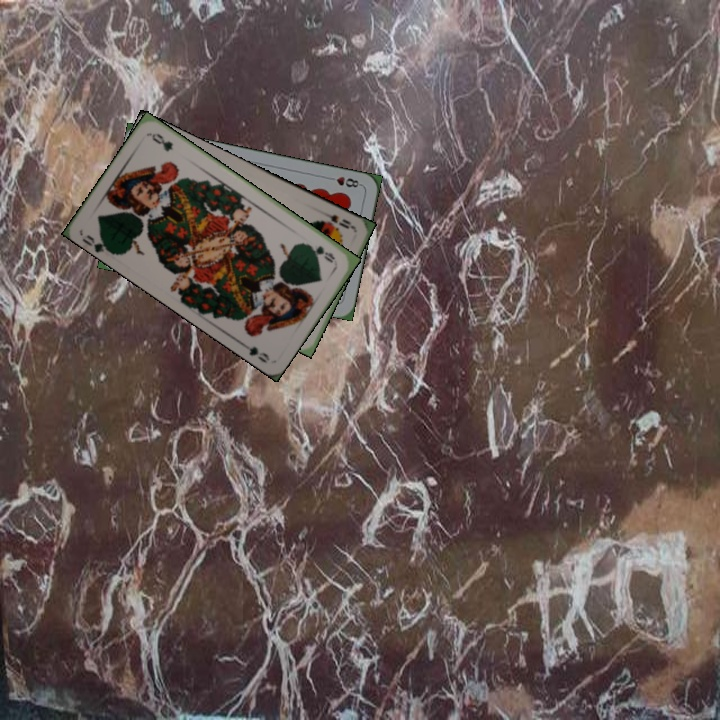GO: (79, 230, 115, 257), (302, 240, 338, 265)
H8: (324, 172, 364, 190)
SO: (318, 207, 356, 231)
